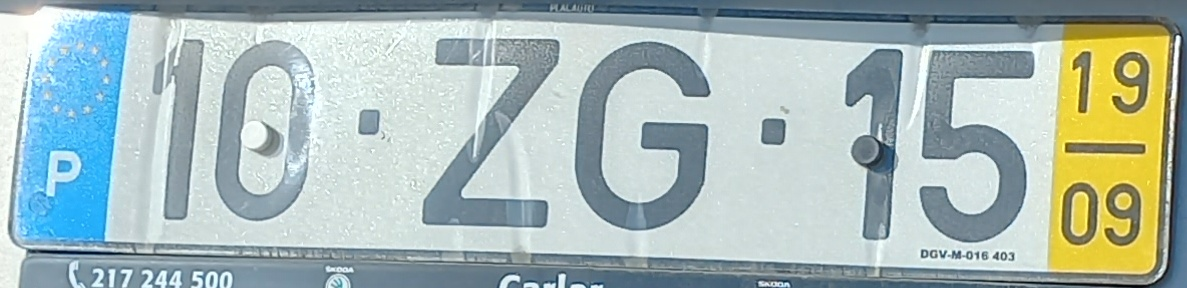0: (207, 34, 321, 227)
1: (839, 43, 908, 245), (146, 36, 207, 227)
5: (915, 47, 1038, 246)
G: (570, 37, 716, 238)
Z: (416, 33, 565, 232)
